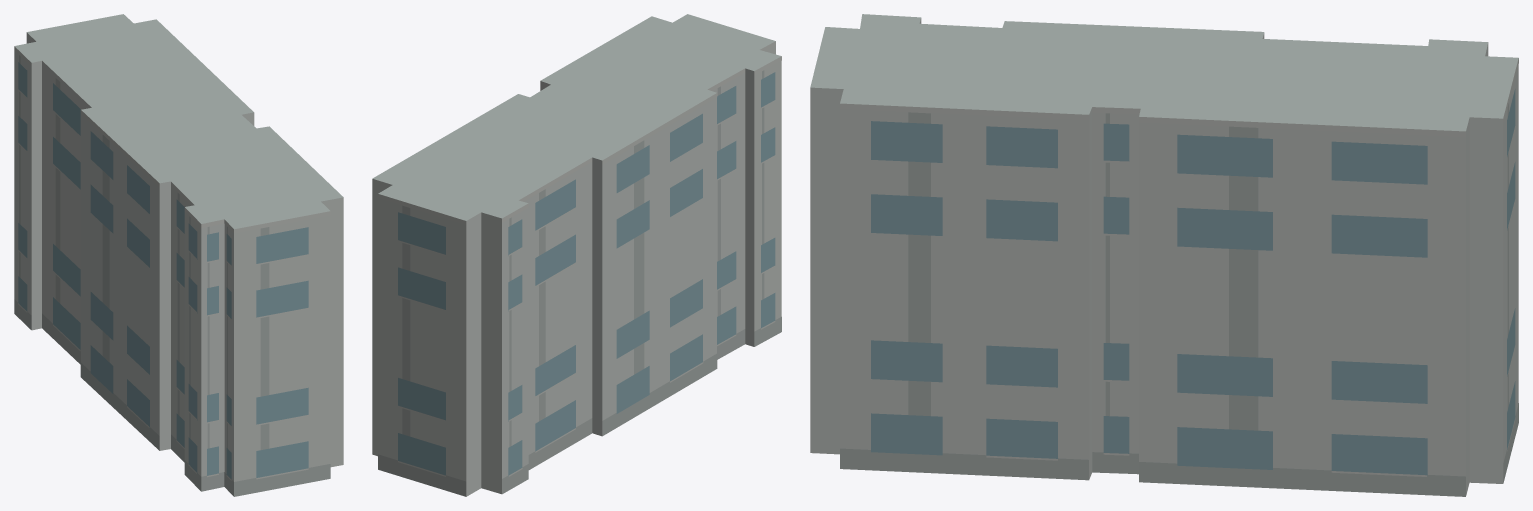
The model's file is survey-upis-32968226.glb.
The picture shows the model from 3 angles, left to right: view 1: azimuth 30°, elevation 25°; view 2: azimuth 150°, elevation 25°; view 3: azimuth 270°, elevation 25°; orthographic projection. The views are drawn at different scales.
Parts seen in each view (by area): view 1: survey-upis-32968226.tmp; view 2: survey-upis-32968226.tmp; view 3: survey-upis-32968226.tmp.
Boxes of the visible parts, x1=… form: survey-upis-32968226.tmp: x1=14, y1=14, x2=343, y2=496; survey-upis-32968226.tmp: x1=372, y1=14, x2=781, y2=496; survey-upis-32968226.tmp: x1=810, y1=14, x2=1518, y2=496.
Size of the model in its own units: 10.62 by 15.4 by 27.07.
